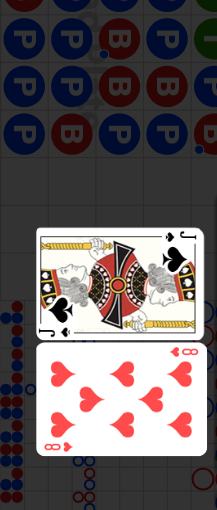8H: (43, 440, 75, 454)
JS: (38, 295, 85, 339), (159, 228, 205, 272)
